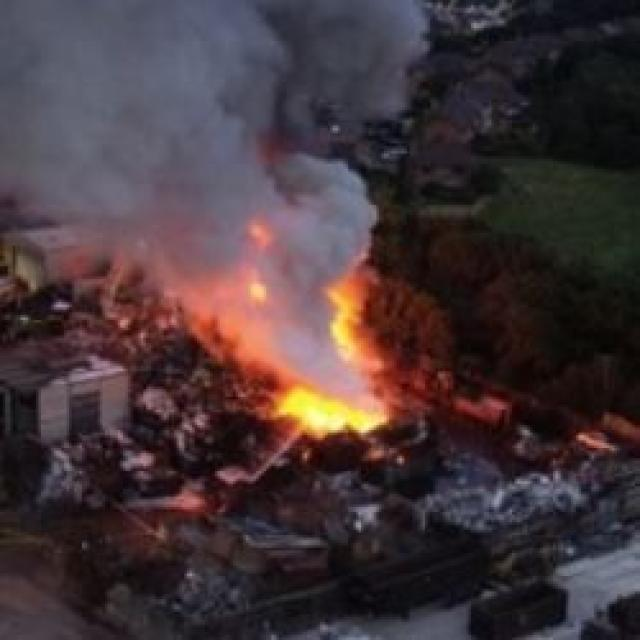Fire: (278, 387, 384, 433)
Smoke: (0, 0, 433, 364)
